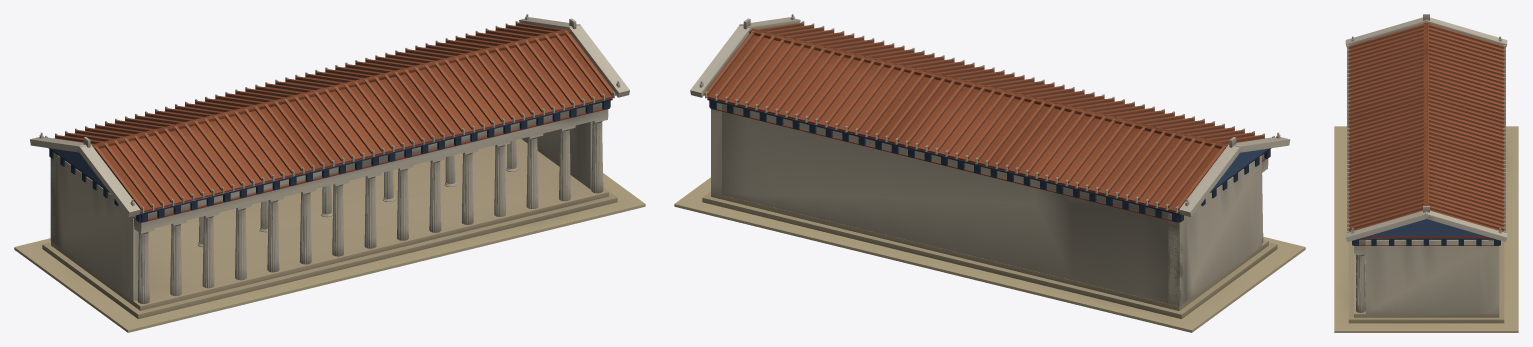
The model's file is stoa-poikile.glb.
3 renders of one model, left to right at view 1: azimuth 30°, elevation 25°; view 2: azimuth 150°, elevation 25°; view 3: azimuth 270°, elevation 25°, orthographic. The views are drawn at different scales.
Parts seen in each view (by area): view 1: p2_roof, p0_base, p1_columns; view 2: p2_roof, p1_columns, p0_base; view 3: p2_roof, p1_columns, p0_base.
Part boxes in pixels (x1=…): p2_roof: x1=30, y1=14, x2=629, y2=231; p0_base: x1=14, y1=139, x2=645, y2=332; p1_columns: x1=50, y1=117, x2=607, y2=303; p2_roof: x1=690, y1=14, x2=1290, y2=222; p1_columns: x1=711, y1=102, x2=1267, y2=306; p0_base: x1=674, y1=177, x2=1305, y2=332; p2_roof: x1=1345, y1=14, x2=1507, y2=252; p1_columns: x1=1354, y1=239, x2=1499, y2=313; p0_base: x1=1334, y1=126, x2=1518, y2=332.
Bounding box in the file's own units: 42 × 11.52 × 16.
